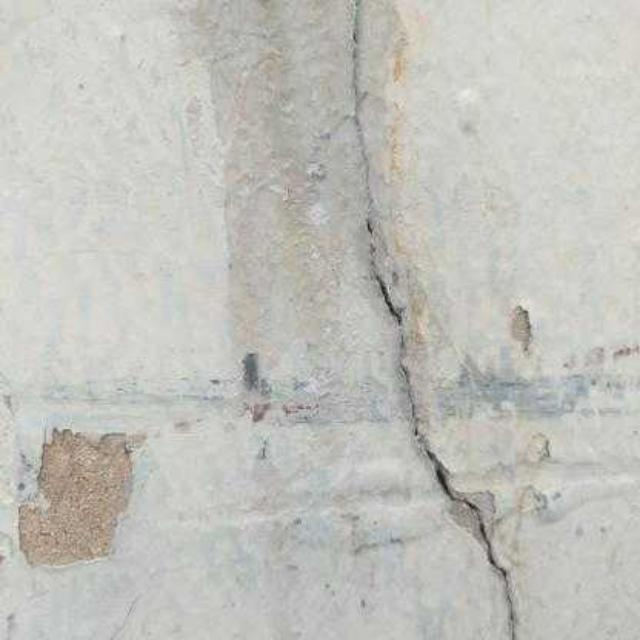D10: (18, 426, 141, 569)
